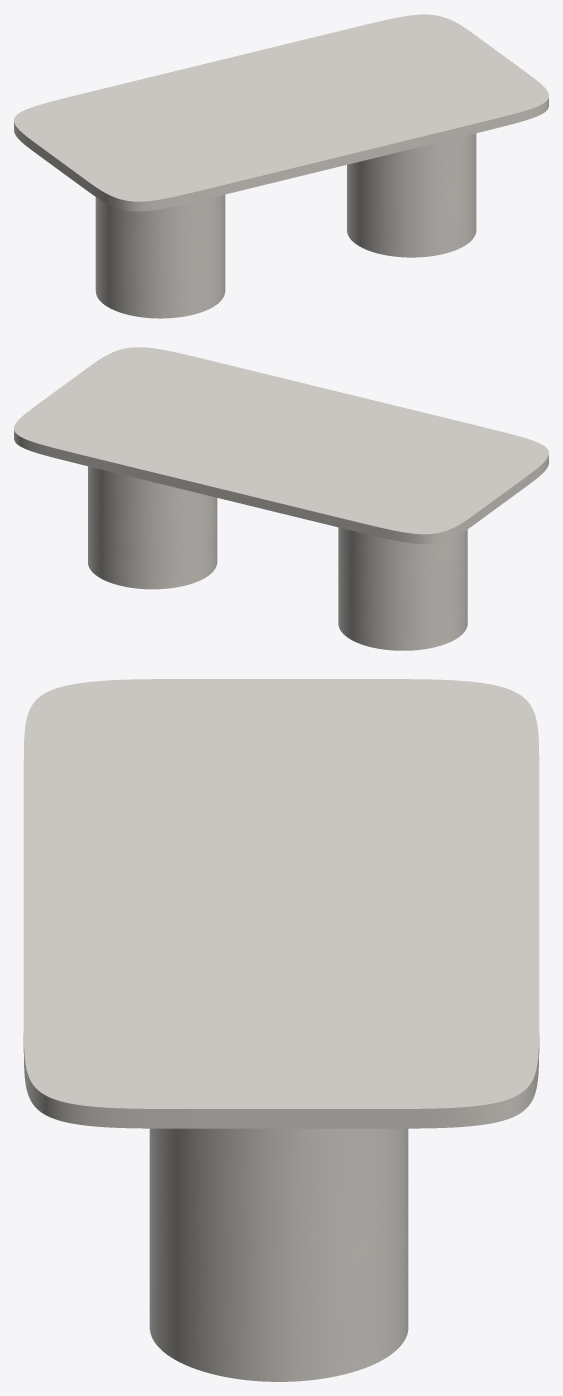
Rendered from pearlwhite_softrecta_standard_stream.glb.
3 renders of one model, top to bottom at view 1: azimuth 30°, elevation 25°; view 2: azimuth 150°, elevation 25°; view 3: azimuth 270°, elevation 25°, orthographic. The views are drawn at different scales.
Parts seen in each view (by area): view 1: standard_softrecta, stream; view 2: standard_softrecta, stream; view 3: standard_softrecta, stream.
Boxes of the visible parts, x1,y1,x2,y2 form: standard_softrecta: (14, 14, 548, 211); stream: (95, 133, 476, 318); standard_softrecta: (14, 347, 548, 543); stream: (88, 466, 467, 650); standard_softrecta: (23, 679, 539, 1128); stream: (149, 1128, 408, 1381).
Size of the model in its own units: 7.5 by 2.49 by 3.8.
1 material, 1 textured.
